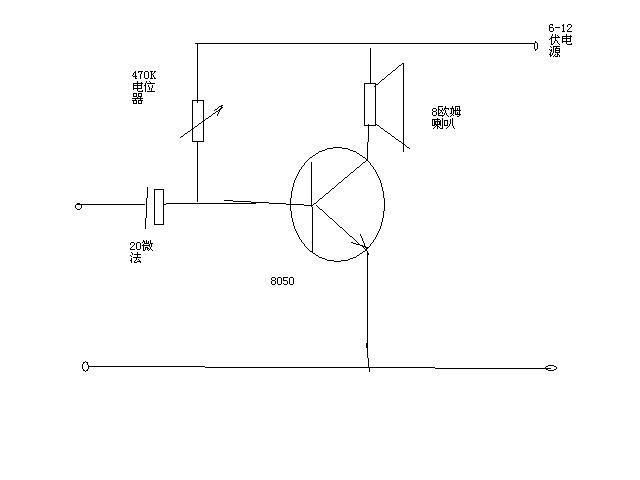cap1: (141, 184, 169, 233)
res1: (190, 94, 206, 146)
triode: (288, 149, 386, 261)
